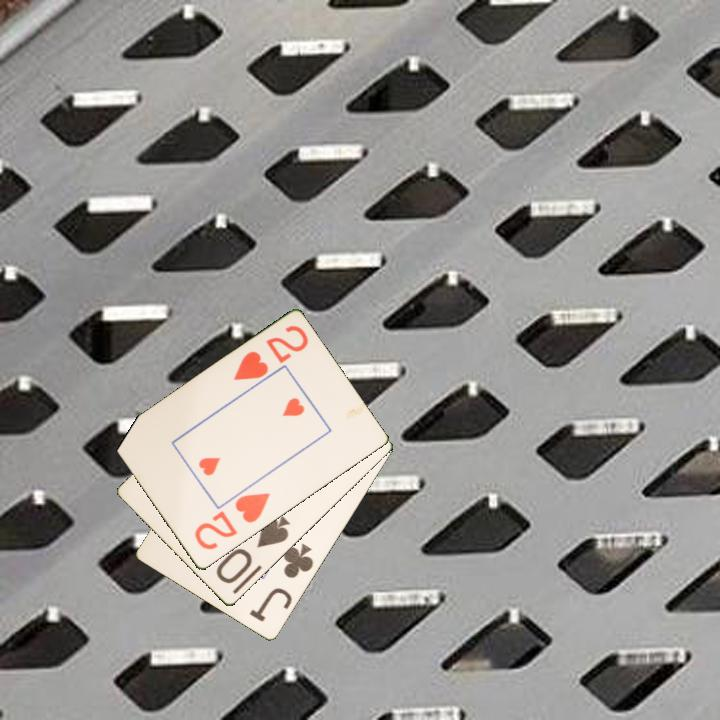10s: (212, 512, 293, 587)
2h: (191, 489, 273, 553), (230, 322, 311, 384)
Jc: (246, 540, 317, 625)
